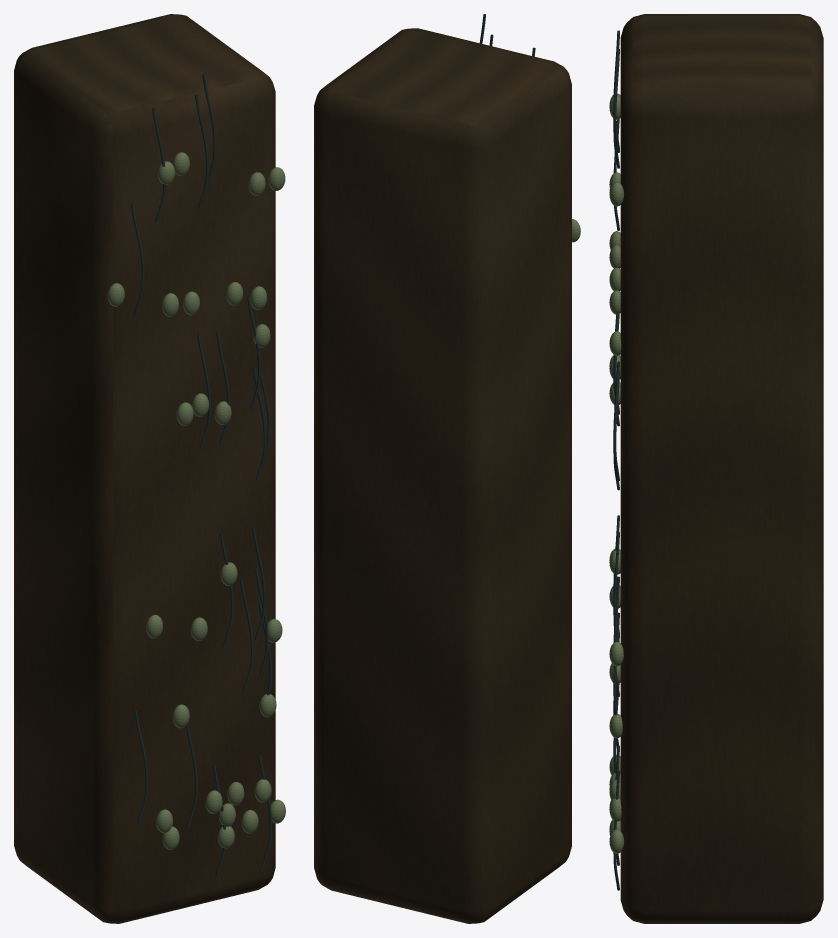
Rendered from beam.glb.
The picture shows the model from 3 angles, left to right: view 1: azimuth 30°, elevation 25°; view 2: azimuth 150°, elevation 25°; view 3: azimuth 270°, elevation 25°; orthographic projection. The views are drawn at different scales.
Visible parts, largest first — view 1: Broken timber; view 2: Broken timber; view 3: Broken timber.
Part boxes in pixels (x1,y1,x2,y2): Broken timber: [14, 14, 275, 923]; Broken timber: [314, 28, 571, 923]; Broken timber: [620, 14, 823, 923].
Size of the model in its own units: 0.115 by 0.5129 by 0.116.
3 materials, 2 textured.
